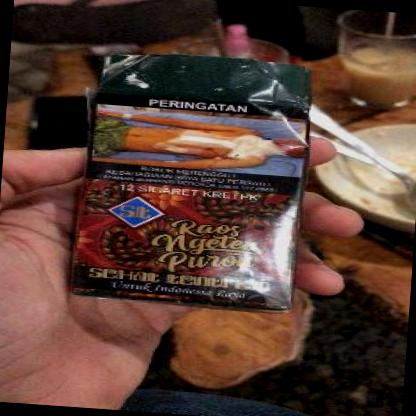objects: (69, 52, 312, 314)
